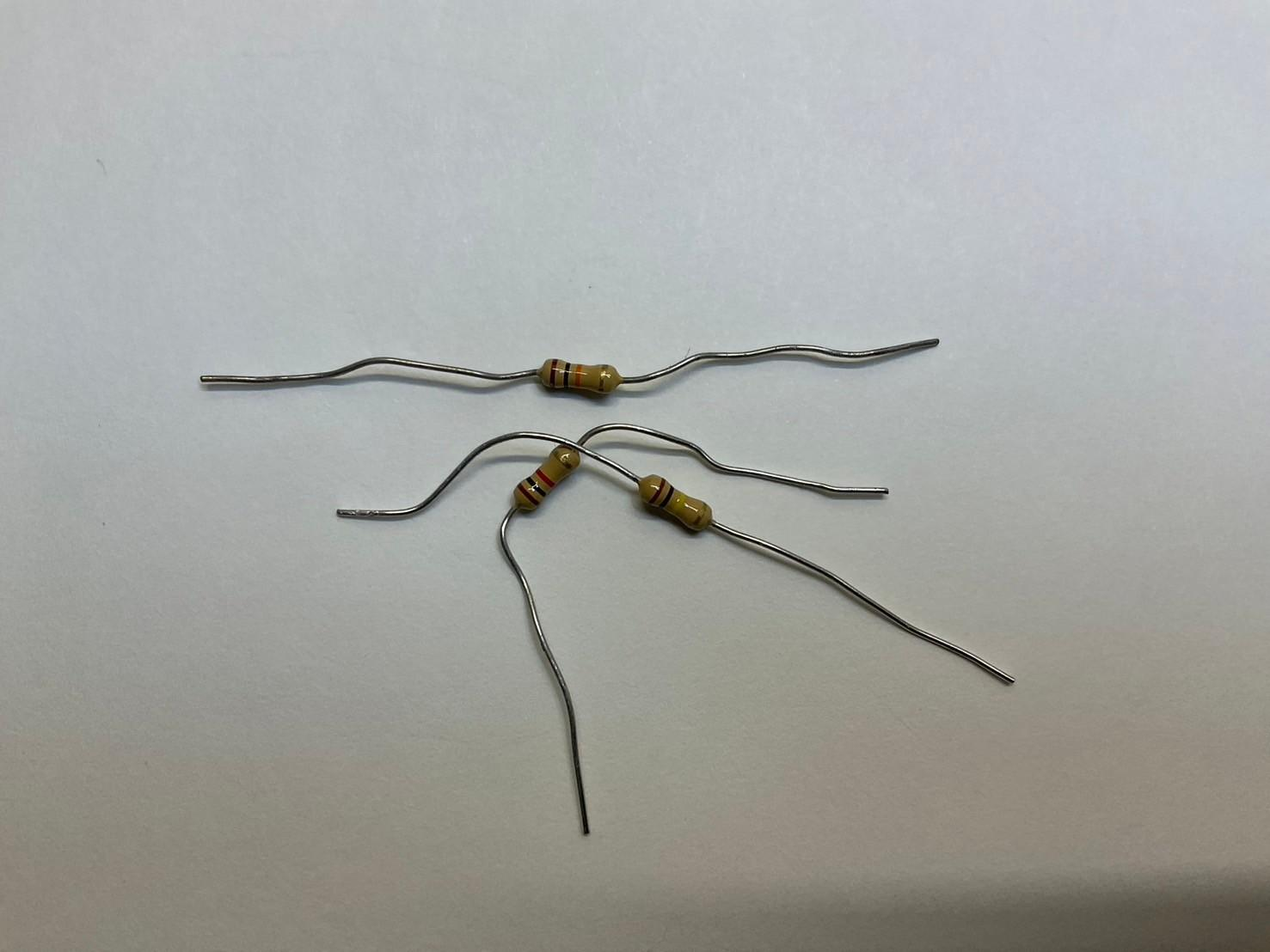resistor: (637, 469, 714, 536), (514, 442, 578, 516), (540, 357, 621, 395)
